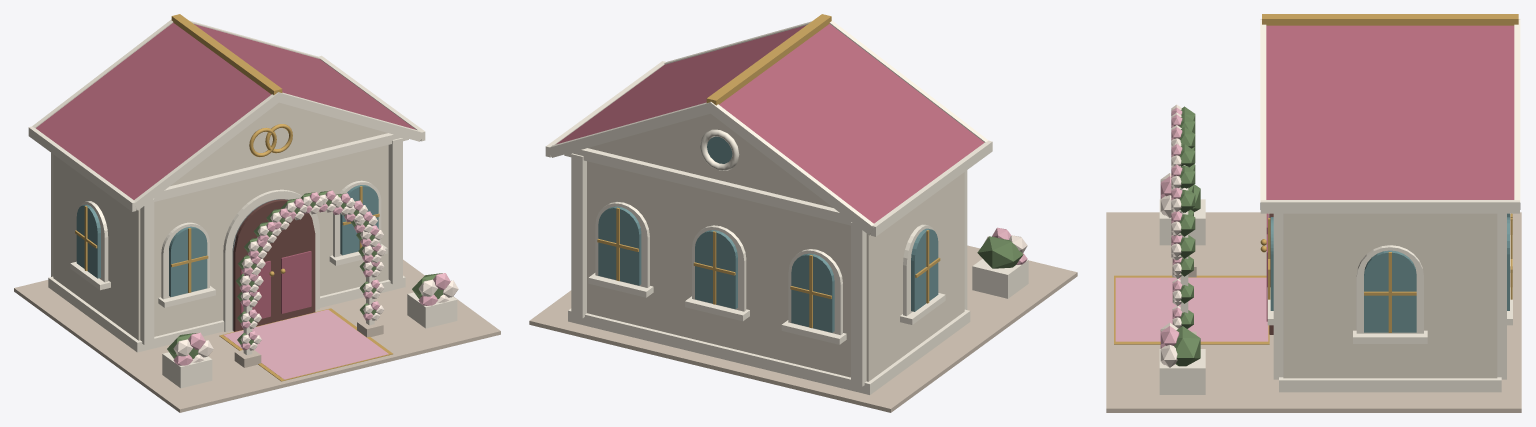
File: wedding-hall.glb
3 views of the same model, side by side, from view 1: azimuth 30°, elevation 25°; view 2: azimuth 150°, elevation 25°; view 3: azimuth 270°, elevation 25° (orthographic). The views are drawn at different scales.
Visible parts, largest first — view 1: ivory, rose, trim, stone, blush, glass, petal, door-right, gold, door-left, leaf; view 2: ivory, rose, trim, stone, glass, gold, leaf; view 3: rose, ivory, stone, trim, blush, gold, glass, leaf, petal.
Boxes of the visible parts, x1=… form: ivory: x1=53, y1=102, x2=388, y2=340; rose: x1=36, y1=22, x2=415, y2=199; trim: x1=28, y1=19, x2=457, y2=388; stone: x1=14, y1=259, x2=500, y2=412; blush: x1=173, y1=190, x2=450, y2=379; glass: x1=76, y1=185, x2=378, y2=296; petal: x1=173, y1=194, x2=458, y2=362; door-right: x1=273, y1=199, x2=315, y2=321; gold: x1=75, y1=14, x2=392, y2=381; door-left: x1=233, y1=200, x2=275, y2=331; leaf: x1=167, y1=190, x2=443, y2=358; ivory: x1=587, y1=113, x2=964, y2=381; rose: x1=556, y1=23, x2=984, y2=223; trim: x1=545, y1=20, x2=1028, y2=394; stone: x1=529, y1=245, x2=1077, y2=412; glass: x1=598, y1=136, x2=938, y2=332; gold: x1=597, y1=14, x2=940, y2=328; leaf: x1=977, y1=236, x2=1023, y2=268; rose: x1=1266, y1=25, x2=1514, y2=199; ivory: x1=1283, y1=213, x2=1497, y2=378; stone: x1=1106, y1=212, x2=1521, y2=412; trim: x1=1159, y1=18, x2=1520, y2=394; blush: x1=1115, y1=107, x2=1268, y2=348; gold: x1=1114, y1=14, x2=1518, y2=344; glass: x1=1270, y1=213, x2=1509, y2=332; leaf: x1=1174, y1=106, x2=1200, y2=366; petal: x1=1160, y1=104, x2=1181, y2=367.
Size of the model in its own units: 7.6 by 5.39 by 6.8.
